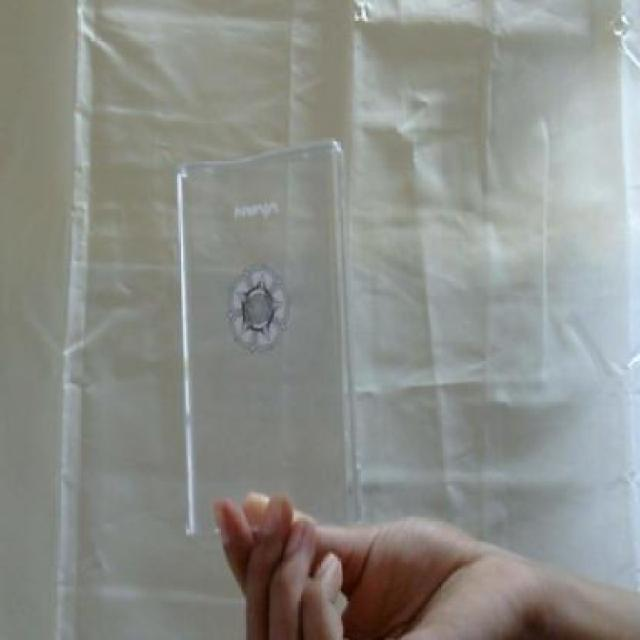Plastic: (176, 134, 365, 531)
